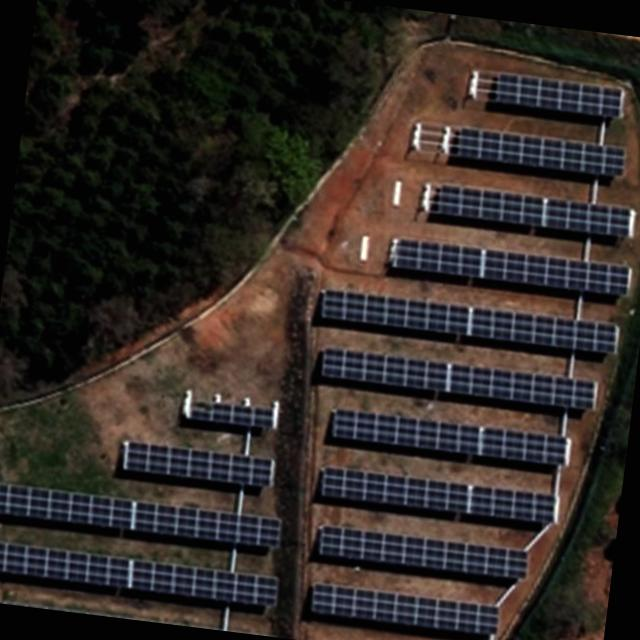solar: (316, 284, 624, 362), (0, 479, 287, 552), (0, 538, 282, 612), (316, 344, 601, 416), (317, 464, 563, 532), (388, 236, 634, 298), (328, 408, 572, 470), (312, 523, 532, 586), (429, 182, 635, 242), (307, 582, 501, 640), (446, 126, 628, 180), (115, 442, 278, 492), (492, 74, 624, 122), (185, 398, 277, 434)
